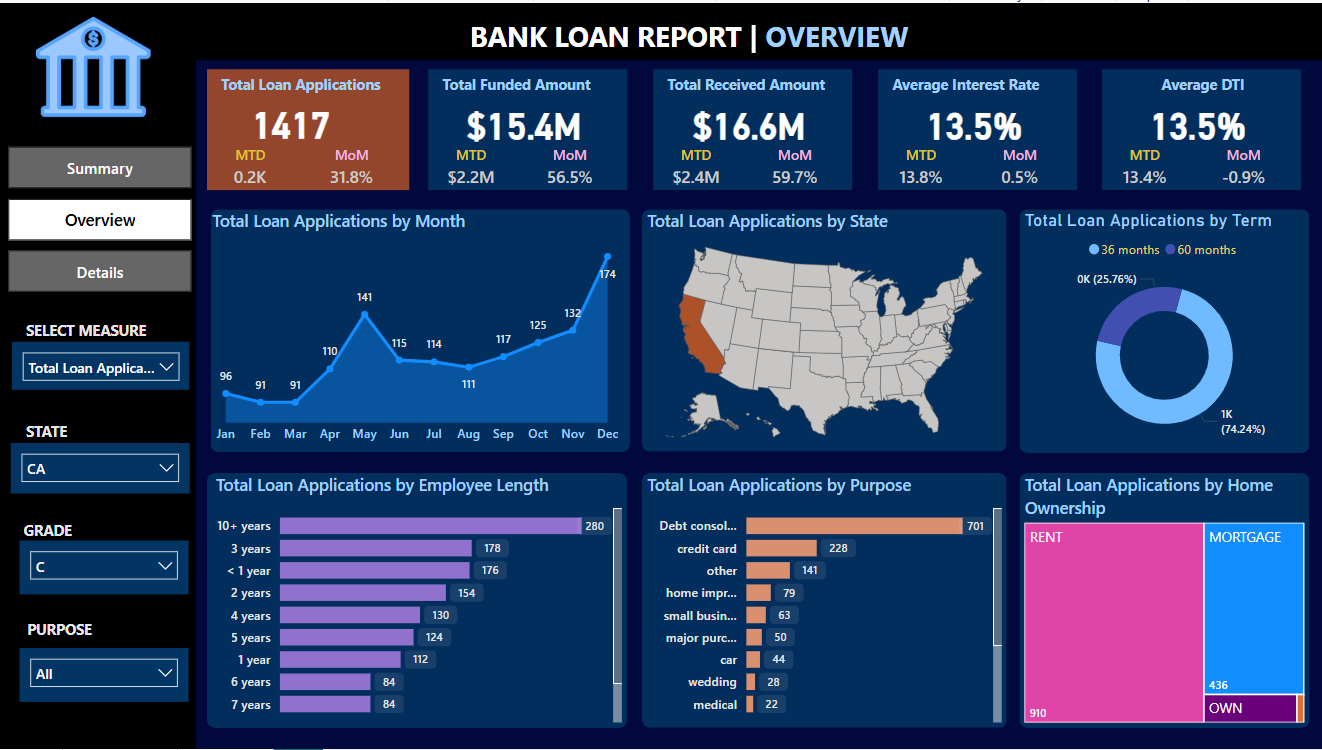

What the dashboard file says about the page in this screenshot:
{"tool":"powerbi","page":{"name":"Overview","canvas":[1280,720],"ordinal":1},"visuals":[{"type":"shape","box":[0,0,1280,55.5],"z":0},{"type":"shape","box":[202.8,64.3,195.2,116.7],"z":0,"group":"g1"},{"type":"shape","box":[416,64.3,192.3,116.7],"z":0,"group":"g2"},{"type":"shape","box":[633,64.3,192.3,116.7],"z":0,"group":"g3"},{"type":"shape","box":[850,64.3,192.3,116.7],"z":0,"group":"g4"},{"type":"shape","box":[1066.9,64.4,192.3,116.7],"z":0,"group":"g5"},{"type":"shape","box":[0,55.5,192,665],"z":1000},{"type":"card","fields":{"Values":["Measure Table.Total Loan Applications"]},"box":[167.9,85.4,232.1,61.9],"z":1000,"group":"g1"},{"type":"card","fields":{"Values":["Measure Table.Total Funded Amount"]},"box":[394.3,86.6,228.6,61.9],"z":1000,"group":"g2"},{"type":"card","fields":{"Values":["Measure Table.Total Amount Received"]},"box":[611.3,86.6,228.6,61.9],"z":1000,"group":"g3"},{"type":"card","fields":{"Values":["Measure Table.Average Interest Rate"]},"box":[828.3,86.6,228.6,61.9],"z":1000,"group":"g4"},{"type":"card","fields":{"Values":["Measure Table.Average DTI"]},"box":[1045.2,86.7,228.6,61.9],"z":1000,"group":"g5"},{"type":"textbox","box":[211.2,64.3,195.2,34.5],"z":2000,"group":"g1"},{"type":"textbox","box":[424.2,64.3,192.3,34.5],"z":2000,"group":"g2"},{"type":"textbox","box":[641.2,64.3,192.3,34.5],"z":2000,"group":"g3"},{"type":"textbox","box":[858.2,64.3,192.3,34.5],"z":2000,"group":"g4"},{"type":"textbox","box":[1075.1,64.4,192.3,34.5],"z":2000,"group":"g5"},{"type":"textbox","box":[20.2,344,183.3,34.5],"z":2000},{"type":"textbox","box":[451.2,8.3,447.6,47.6],"z":3000},{"type":"card","title":"MTD","fields":{"Values":["Measure Table.MTD Loan Applications"]},"box":[211.2,138.1,66.7,42.9],"z":3000,"group":"g1"},{"type":"card","title":"MTD","fields":{"Values":["Measure Table.MTD Total Funded Amount"]},"box":[424.2,138.1,65.7,42.9],"z":3000,"group":"g2"},{"type":"card","title":"MTD","fields":{"Values":["Measure Table.MTD Total Received Amount"]},"box":[641.2,138.1,65.7,42.9],"z":3000,"group":"g3"},{"type":"card","title":"MTD","fields":{"Values":["Measure Table.MTD Interest Rate"]},"box":[858.2,138.1,65.7,42.9],"z":3000,"group":"g4"},{"type":"card","title":"MTD","fields":{"Values":["Measure Table.MTD Average DTI"]},"box":[1075.1,138.2,65.7,42.9],"z":3000,"group":"g5"},{"type":"group","id":"g1","title":"Group 1","box":[167.9,64.3,238.1,116.7],"z":4000},{"type":"card","title":"MoM","fields":{"Values":["Measure Table.MoM Loan Applications"]},"box":[308.8,138.1,66.7,42.9],"z":4000,"group":"g1"},{"type":"card","title":"MoM","fields":{"Values":["Measure Table.MoM Funded Amount"]},"box":[520.4,138.1,65.7,42.9],"z":4000,"group":"g2"},{"type":"card","title":"MoM","fields":{"Values":["Measure Table.MoM Received Amount"]},"box":[737.4,138.1,65.7,42.9],"z":4000,"group":"g3"},{"type":"card","title":"MoM","fields":{"Values":["Measure Table.MoM Interest Rate"]},"box":[954.4,138.1,65.7,42.9],"z":4000,"group":"g4"},{"type":"card","title":"MoM","fields":{"Values":["Measure Table.MoM Average DTI"]},"box":[1171.3,138.2,65.7,42.9],"z":4000,"group":"g5"},{"type":"group","id":"g2","title":"Group 1","box":[394.3,64.3,228.6,116.7],"z":5000},{"type":"group","id":"g3","title":"Group 1","box":[611.3,64.3,228.6,116.7],"z":6000},{"type":"group","id":"g4","title":"Group 1","box":[828.3,64.3,228.6,116.7],"z":7000},{"type":"group","id":"g5","title":"Group 1","box":[1045.2,64.4,228.6,116.7],"z":8000},{"type":"shape","box":[0,0,191.7,665.5],"z":9000},{"type":"slicer","fields":{"Values":["bank_loan_data.address_state"]},"box":[13.1,425,172.6,48.8],"z":10000},{"type":"textbox","box":[22.6,398.8,72.6,34.5],"z":11000},{"type":"slicer","fields":{"Values":["bank_loan_data.grade"]},"box":[10.9,518.8,173.7,53.1],"z":12000},{"type":"textbox","box":[20.2,494,72.6,34.5],"z":13000},{"type":"slicer","fields":{"Values":["bank_loan_data.purpose"]},"box":[10.9,622.5,173.7,51.9],"z":14000},{"type":"textbox","box":[23.8,590.5,88.1,32.1],"z":15000},{"type":"shape","box":[206,198.8,404.8,234.5],"z":16000},{"type":"areaChart","fields":{"Category":["Date Table.Month"],"Y":["Measure Table.Total Amount Received"]},"box":[205.1,199.1,405.4,225.6],"z":17000},{"type":"slicer","fields":{"Values":["Select Measure.Select Measure"]},"box":[14.3,327.4,171.4,46.4],"z":18000},{"type":"textbox","box":[22.6,301.2,145.2,32.1],"z":19000},{"type":"shape","box":[622.5,199.1,352.3,234],"z":20000},{"type":"shapeMap","fields":{"Value":["Measure Table.Total Amount Received"],"Category":["bank_loan_data.address_state"]},"box":[622.5,199.1,352.3,235.3],"z":21000},{"type":"shape","box":[986.9,199.1,279.9,235.3],"z":22000},{"type":"donutChart","fields":{"Y":["Measure Table.Total Amount Received"],"Category":["bank_loan_data.term"]},"box":[986.9,199.1,279.9,235.3],"z":23000},{"type":"shape","box":[202.7,453.6,405.4,246.1],"z":24000},{"type":"barChart","fields":{"Y":["Measure Table.Total Amount Received"],"Category":["bank_loan_data.emp_length"]},"box":[206.3,453.6,401.7,246.1],"z":25000},{"type":"shape","box":[622.5,453.6,352.3,246.1],"z":26000},{"type":"barChart","fields":{"Y":["Measure Table.Total Amount Received"],"Category":["bank_loan_data.purpose"]},"box":[622.5,453.6,352.3,246.1],"z":27000},{"type":"shape","box":[986.9,453.6,279.9,246.1],"z":28000},{"type":"treemap","fields":{"Values":["Measure Table.Total Amount Received"],"Group":["bank_loan_data.home_ownership"]},"box":[986.9,453.6,279.9,246.1],"z":29000},{"type":"pageNavigator","box":[10.9,138.7,177.3,142.4],"z":30000},{"type":"image","box":[31.4,0,123.1,123.1],"z":31000}]}

Visuals, with their boxes in screenshot pixels (x1, y1, x2, y2), scaled from the page's 1280x720 canvas onto the 1322x750 screenshot:
shape: region(0, 0, 1321, 58)
shape: region(209, 67, 411, 189)
shape: region(430, 67, 628, 189)
shape: region(654, 67, 852, 189)
shape: region(878, 67, 1077, 189)
shape: region(1102, 67, 1301, 189)
shape: region(0, 58, 198, 749)
card - Measure Table.Total Loan Applications: region(173, 89, 413, 153)
card - Measure Table.Total Funded Amount: region(407, 90, 643, 155)
card - Measure Table.Total Amount Received: region(631, 90, 867, 155)
card - Measure Table.Average Interest Rate: region(855, 90, 1092, 155)
card - Measure Table.Average DTI: region(1079, 90, 1316, 155)
textbox: region(218, 67, 420, 103)
textbox: region(438, 67, 637, 103)
textbox: region(662, 67, 861, 103)
textbox: region(886, 67, 1085, 103)
textbox: region(1110, 67, 1309, 103)
textbox: region(21, 358, 210, 394)
textbox: region(466, 9, 928, 58)
"MTD" card: region(218, 144, 287, 189)
"MTD" card: region(438, 144, 506, 189)
"MTD" card: region(662, 144, 730, 189)
"MTD" card: region(886, 144, 954, 189)
"MTD" card: region(1110, 144, 1178, 189)
"Group 1" group: region(173, 67, 419, 189)
"MoM" card: region(319, 144, 388, 189)
"MoM" card: region(537, 144, 605, 189)
"MoM" card: region(762, 144, 829, 189)
"MoM" card: region(986, 144, 1054, 189)
"MoM" card: region(1210, 144, 1278, 189)
"Group 1" group: region(407, 67, 643, 189)
"Group 1" group: region(631, 67, 867, 189)
"Group 1" group: region(855, 67, 1092, 189)
"Group 1" group: region(1079, 67, 1316, 189)
shape: region(0, 0, 198, 693)
slicer - bank_loan_data.address_state: region(14, 443, 192, 494)
textbox: region(23, 415, 98, 451)
slicer - bank_loan_data.grade: region(11, 540, 191, 596)
textbox: region(21, 515, 96, 551)
slicer - bank_loan_data.purpose: region(11, 648, 191, 702)
textbox: region(25, 615, 116, 649)
shape: region(213, 207, 631, 451)
areaChart - Date Table.Month x Measure Table.Total Amount Received: region(212, 207, 631, 442)
slicer - Select Measure.Select Measure: region(15, 341, 192, 389)
textbox: region(23, 314, 173, 347)
shape: region(643, 207, 1007, 451)
shapeMap - Measure Table.Total Amount Received x bank_loan_data.address_state: region(643, 207, 1007, 452)
shape: region(1019, 207, 1308, 452)
donutChart - Measure Table.Total Amount Received x bank_loan_data.term: region(1019, 207, 1308, 452)
shape: region(209, 473, 628, 729)
barChart - Measure Table.Total Amount Received x bank_loan_data.emp_length: region(213, 473, 628, 729)
shape: region(643, 473, 1007, 729)
barChart - Measure Table.Total Amount Received x bank_loan_data.purpose: region(643, 473, 1007, 729)
shape: region(1019, 473, 1308, 729)
treemap - Measure Table.Total Amount Received x bank_loan_data.home_ownership: region(1019, 473, 1308, 729)
pageNavigator: region(11, 144, 194, 293)
image: region(32, 0, 160, 128)
